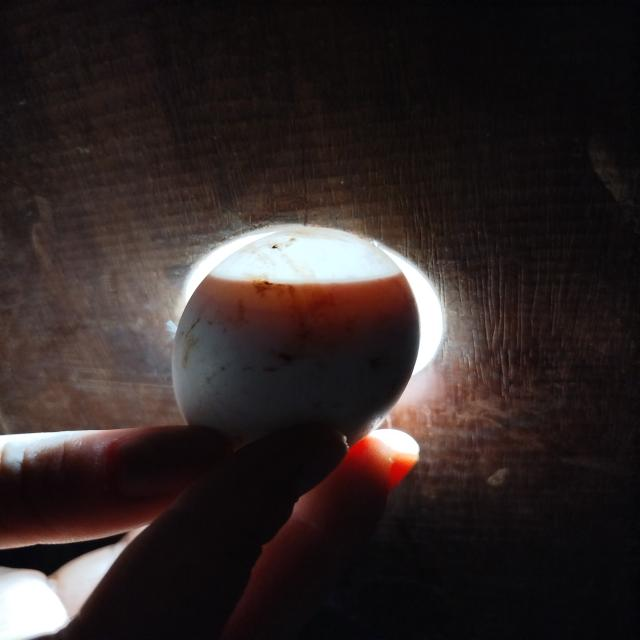Embriao: (172, 288, 420, 448)
